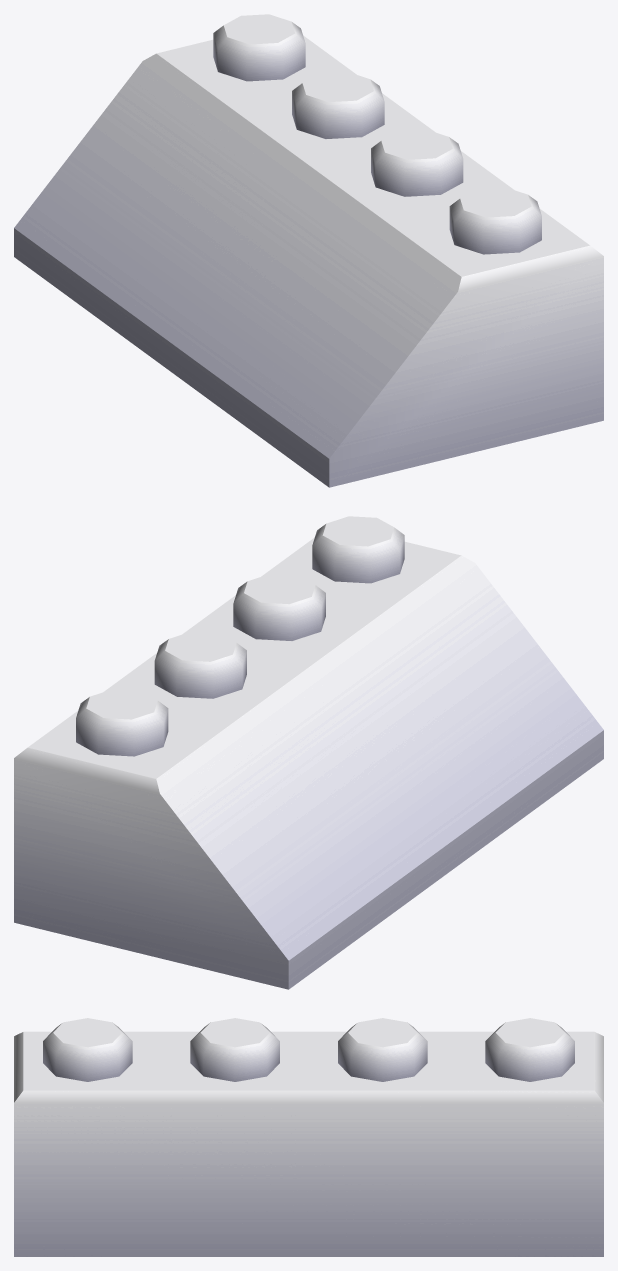
File: round_hq_brick_slope_2x4.glb
3 renders of one model, top to bottom at view 1: azimuth 30°, elevation 25°; view 2: azimuth 150°, elevation 25°; view 3: azimuth 270°, elevation 25°, orthographic. The views are drawn at different scales.
Visible parts, largest first — view 1: round-hq-brick-slope-2x4; view 2: round-hq-brick-slope-2x4; view 3: round-hq-brick-slope-2x4.
Part boxes in pixels (x1,y1,x2,y2): round-hq-brick-slope-2x4: [14, 14, 603, 487]; round-hq-brick-slope-2x4: [14, 516, 603, 989]; round-hq-brick-slope-2x4: [14, 1018, 603, 1256].
Bounding box in the file's own units: 0.159 × 0.114 × 0.316.
Materials: 1 (1 with a texture image).
